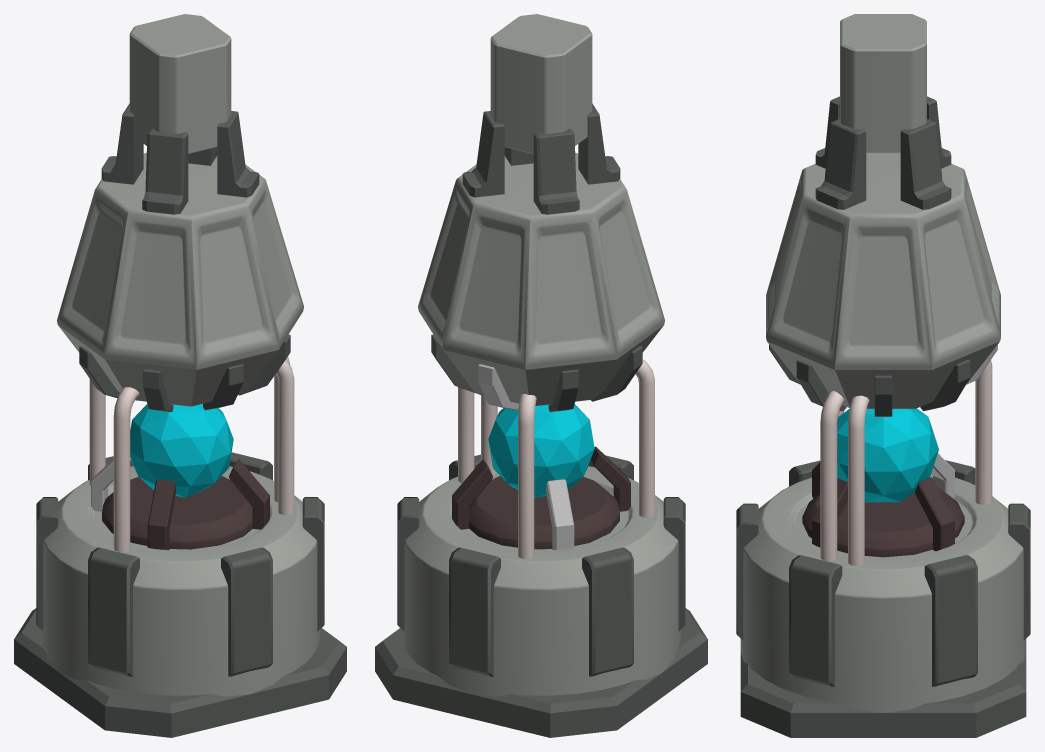
The model's file is Env_SetP_SpaceStation_Reactor_2x2x5.fbx.
3 renders of one model, left to right at view 1: azimuth 30°, elevation 25°; view 2: azimuth 150°, elevation 25°; view 3: azimuth 270°, elevation 25°, orthographic. The views are drawn at different scales.
Parts seen in each view (by area): view 1: polySurface102, bottom chamber, Base, PipeAcceptor, orb, energy acceptor, bottom fins12, bottom fins13, pipeholder4, Pipe3, Pipe4, pipeholder1 (+13 smaller); view 2: polySurface102, bottom chamber, Base, PipeAcceptor, orb, energy acceptor, bottom fins11, bottom fins10, pipeholder3, Pipe7, Pipe3, pipeholder2 (+12 smaller); view 3: polySurface102, bottom chamber, Base, PipeAcceptor, orb, bottom fins14, bottom fins15, energy acceptor, pipeholder1, pipeholder2, Pipe4, Pipe6 (+11 smaller).
Boxes of the visible parts, bbox=[...] form: polySurface102: bbox=[57, 153, 303, 406]; bottom chamber: bbox=[41, 466, 319, 696]; Base: bbox=[14, 608, 346, 737]; PipeAcceptor: bbox=[129, 14, 231, 153]; orb: bbox=[130, 404, 233, 497]; energy acceptor: bbox=[102, 476, 252, 549]; bottom fins12: bbox=[88, 547, 139, 676]; bottom fins13: bbox=[221, 547, 272, 676]; pipeholder4: bbox=[142, 128, 188, 214]; Pipe3: bbox=[113, 387, 139, 551]; Pipe4: bbox=[276, 360, 294, 515]; pipeholder1: bbox=[217, 111, 259, 197]; polySurface102: bbox=[418, 153, 664, 405]; bottom chamber: bbox=[402, 466, 680, 696]; Base: bbox=[375, 608, 707, 737]; PipeAcceptor: bbox=[490, 14, 592, 153]; orb: bbox=[488, 404, 594, 497]; energy acceptor: bbox=[469, 476, 619, 549]; bottom fins11: bbox=[582, 547, 633, 676]; bottom fins10: bbox=[449, 547, 500, 676]; pipeholder3: bbox=[533, 128, 579, 214]; Pipe7: bbox=[518, 394, 536, 558]; Pipe3: bbox=[635, 359, 654, 517]; pipeholder2: bbox=[462, 111, 504, 197]; polySurface102: bbox=[766, 152, 1000, 408]; bottom chamber: bbox=[740, 474, 1026, 712]; Base: bbox=[740, 653, 1026, 737]; PipeAcceptor: bbox=[840, 14, 926, 152]; orb: bbox=[837, 408, 938, 502]; bottom fins14: bbox=[789, 555, 842, 686]; bottom fins15: bbox=[924, 555, 977, 686]; energy acceptor: bbox=[802, 488, 964, 557]; pipeholder1: bbox=[815, 119, 866, 209]; pipeholder2: bbox=[900, 119, 951, 209]; Pipe4: bbox=[820, 390, 844, 560]; Pipe6: bbox=[848, 395, 869, 565].
Size of the model in its own units: 200 by 500 by 206.
